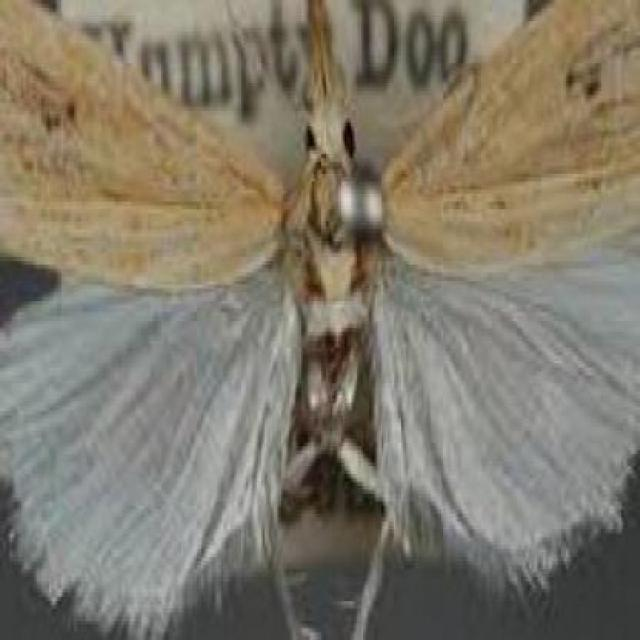stem-borer: (0, 0, 638, 638)
